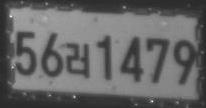1: (94, 34, 117, 81)
4: (120, 35, 145, 82)
5: (15, 31, 37, 75)
6: (41, 32, 63, 77)
7: (146, 36, 170, 84)
9: (172, 38, 197, 85)
러: (65, 41, 91, 80)
